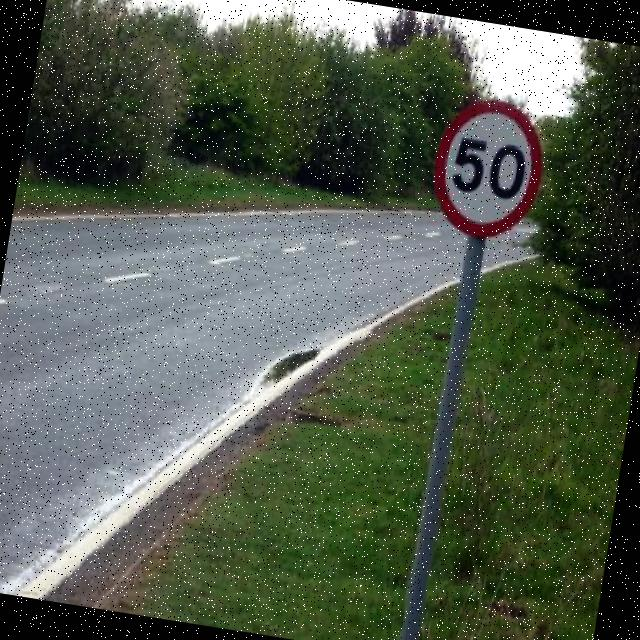Ograniczenie predkosci do 50: (424, 92, 549, 245)
